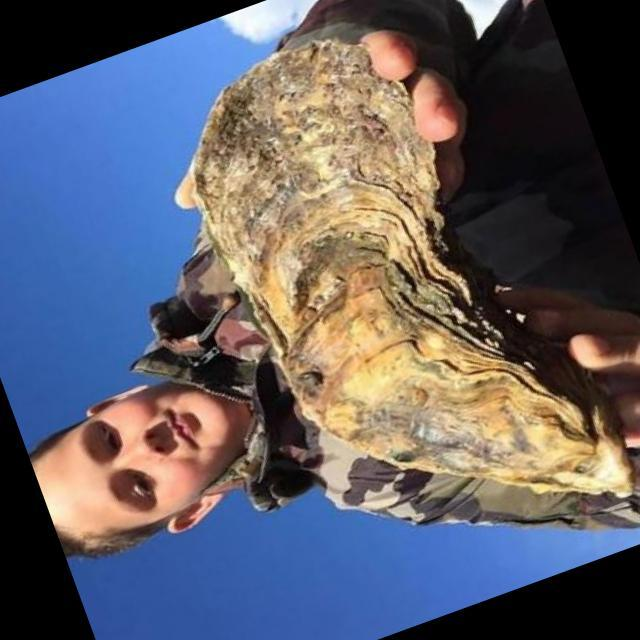Oyster- Indeterminate: (157, 0, 640, 605)
